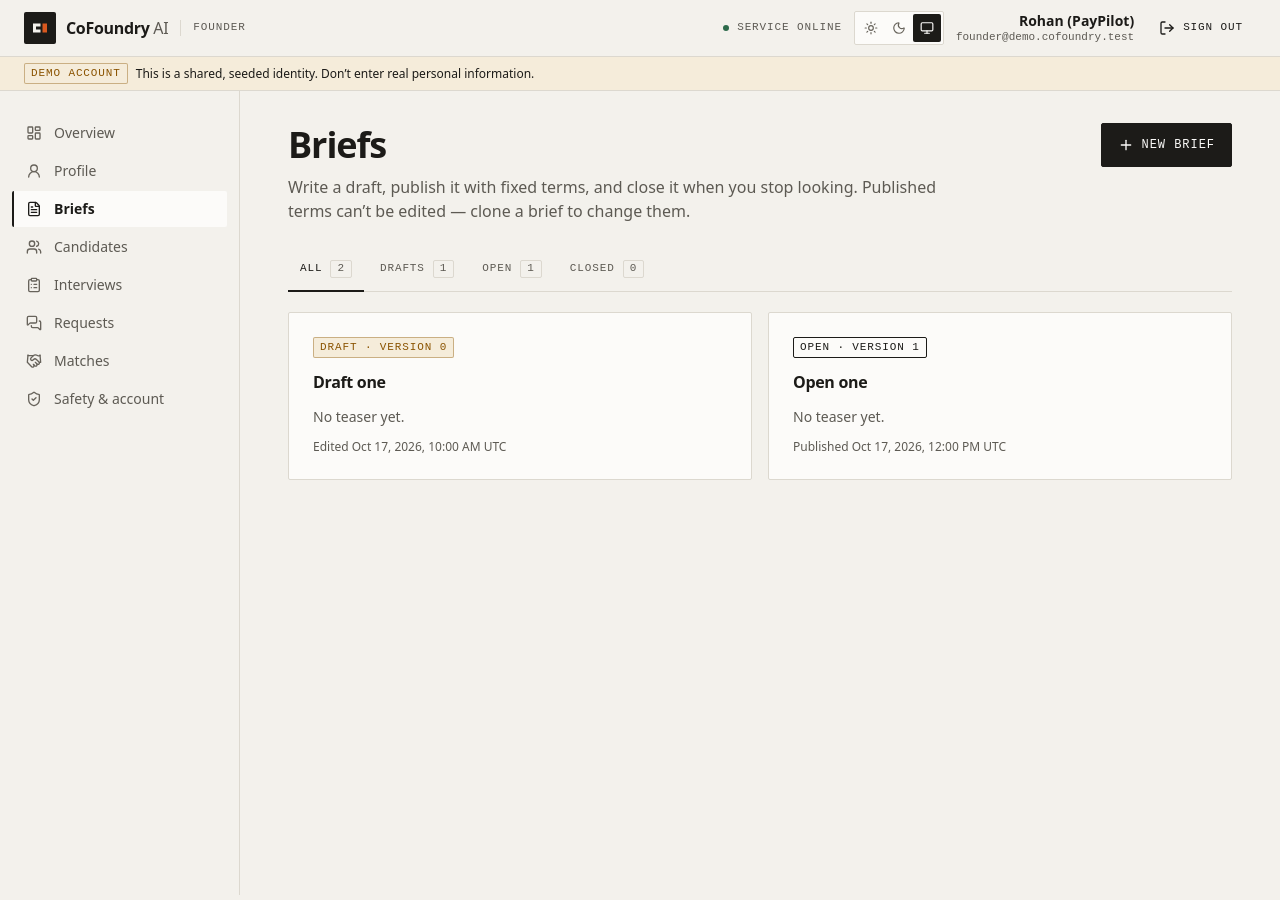
Test: founder brief list › filters by status with counts
Expected: the link "Draft one" is shown, [313,371,386,393]
Click the tab "Open 1": (512, 270) [470,248,554,292]
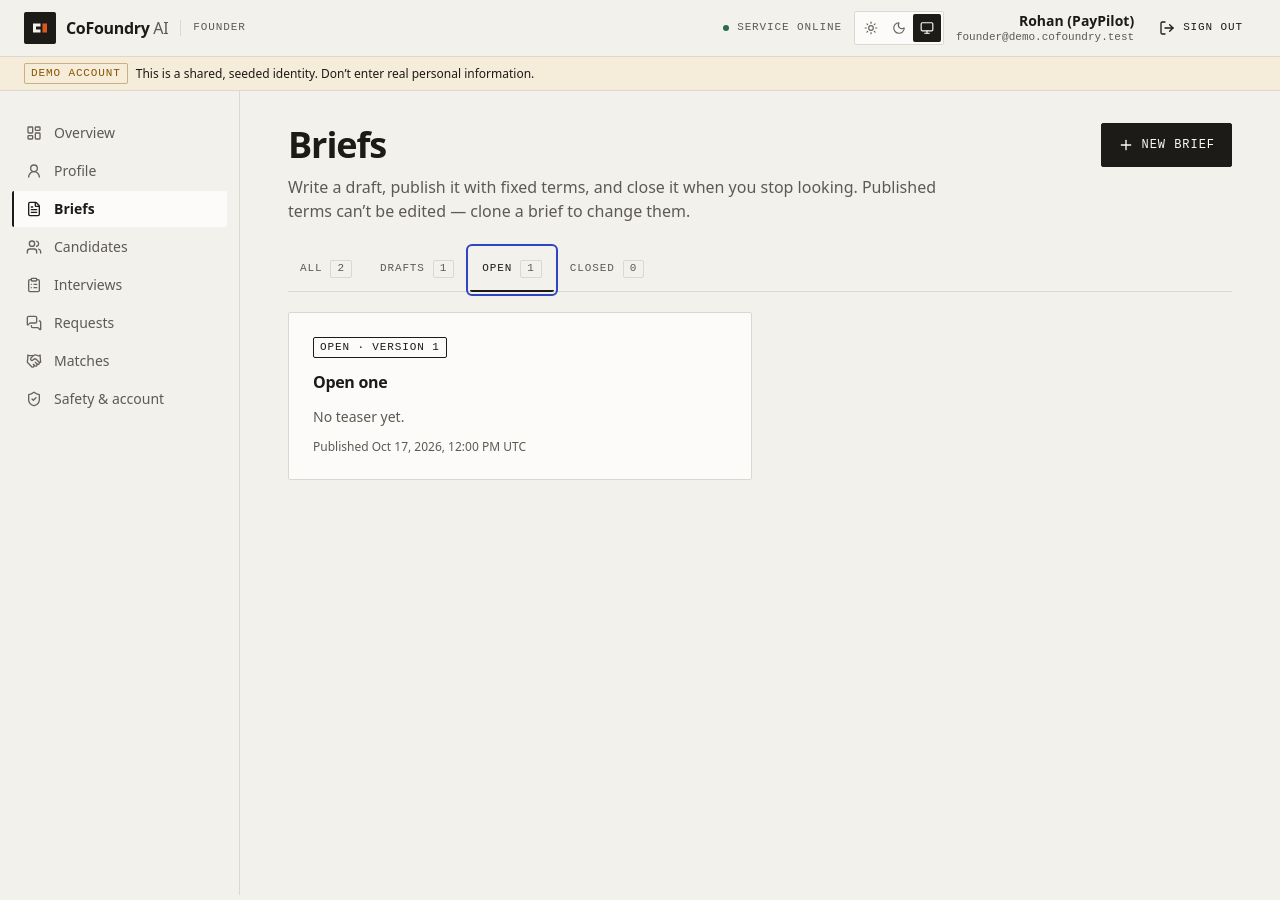
Expected: the link "Open one" is shown, [313,371,387,393]
Expected: the link "Draft one" is gone
